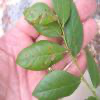Blueberry leaf: (12, 39, 68, 72), (29, 70, 85, 99), (62, 0, 84, 65), (24, 1, 60, 30), (83, 44, 99, 90)
